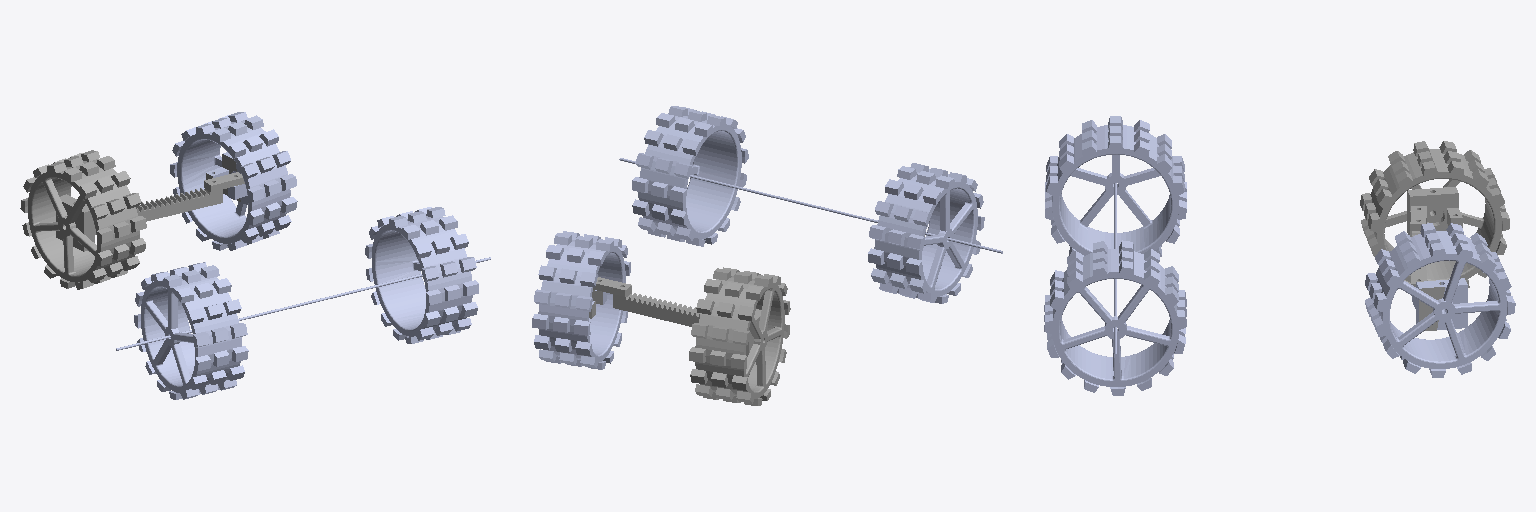
robot.urdf — Vehicle:
<?xml version="1.0" encoding="utf-8"?>
<!-- This URDF was automatically created by SolidWorks to URDF Exporter! Originally created by Stephen Brawner (brawner@gmail.com) 
     Commit Version: 1.6.0-4-g7f85cfe  Build Version: 1.6.7995.38578
     For more information, please see http://wiki.ros.org/sw_urdf_exporter -->
<robot
  name="Vehicle">
  <link
    name="base_link">
    <inertial>
      <origin
        xyz="0.0550010502932839 0.00335 -0.107537951269826"
        rpy="0 0 0" />
      <mass
        value="0.134222467498483" />
      <inertia
        ixx="0.000530200326568241"
        ixy="-1.76282741803255E-21"
        ixz="5.67919391312208E-09"
        iyy="0.000664910161234467"
        iyz="-1.0649504531209E-21"
        izz="0.000135714042427226" />
    </inertial>
    <visual>
      <origin
        xyz="0 0 0"
        rpy="0 0 0" />
      <geometry>
        <mesh
          filename="package://Vehicle/meshes/base_link.STL" />
      </geometry>
      <material
        name="">
        <color
          rgba="0.792156862745098 0.819607843137255 0.933333333333333 1" />
      </material>
    </visual>
    <collision>
      <origin
        xyz="0 0 0"
        rpy="0 0 0" />
      <geometry>
        <mesh
          filename="package://Vehicle/meshes/base_link.STL" />
      </geometry>
    </collision>
  </link>
  <link
    name="Left Steer Link">
    <inertial>
      <origin
        xyz="0.0500809222850922 0.00656724894550813 -0.00535919272784974"
        rpy="0 0 0" />
      <mass
        value="0.00324602578455271" />
      <inertia
        ixx="4.48150642389345E-08"
        ixy="4.84727360608689E-10"
        ixz="1.77018588678701E-08"
        iyy="1.49323356536948E-06"
        iyz="-6.02970654671201E-12"
        izz="1.49849378812535E-06" />
    </inertial>
    <visual>
      <origin
        xyz="0 0 0"
        rpy="0 0 0" />
      <geometry>
        <mesh
          filename="package://Vehicle/meshes/Left Steer Link.STL" />
      </geometry>
      <material
        name="">
        <color
          rgba="0.698039215686274 0.698039215686274 0.698039215686274 1" />
      </material>
    </visual>
    <collision>
      <origin
        xyz="0 0 0"
        rpy="0 0 0" />
      <geometry>
        <mesh
          filename="package://Vehicle/meshes/Left Steer Link.STL" />
      </geometry>
    </collision>
  </link>
  <joint
    name="Left Steer Link"
    type="prismatic">
    <origin
      xyz="0.0013096 0.19439 0.0067"
      rpy="1.5708 0 -0.012439" />
    <parent
      link="base_link" />
    <child
      link="Left Steer Link" />
    <axis
      xyz="0 1 0" />
    <limit
      lower="0"
      upper="0"
      effort="0"
      velocity="0" />
  </joint>
  <link
    name="Left Wheel Hub Steer Link">
    <inertial>
      <origin
        xyz="-0.00779963377175908 -0.00403158824266521 -0.0131195801197776"
        rpy="0 0 0" />
      <mass
        value="0.0050366617475554" />
      <inertia
        ixx="7.34761078247964E-07"
        ixy="-1.72051817338608E-10"
        ixz="-4.97521640714242E-08"
        iyy="6.45569810746413E-07"
        iyz="3.09626826661675E-11"
        izz="4.97776139373279E-07" />
    </inertial>
    <visual>
      <origin
        xyz="0 0 0"
        rpy="0 0 0" />
      <geometry>
        <mesh
          filename="package://Vehicle/meshes/Left Wheel Hub Steer Link.STL" />
      </geometry>
      <material
        name="">
        <color
          rgba="0.698039215686274 0.698039215686274 0.698039215686274 1" />
      </material>
    </visual>
    <collision>
      <origin
        xyz="0 0 0"
        rpy="0 0 0" />
      <geometry>
        <mesh
          filename="package://Vehicle/meshes/Left Wheel Hub Steer Link.STL" />
      </geometry>
    </collision>
  </link>
  <joint
    name="Wheel Hub Steer Link"
    type="fixed">
    <origin
      xyz="0 0.01 0"
      rpy="0 0 0" />
    <parent
      link="Left Steer Link" />
    <child
      link="Left Wheel Hub Steer Link" />
    <axis
      xyz="0 0 0" />
  </joint>
  <link
    name="Left Wheel Hub and Wheel">
    <inertial>
      <origin
        xyz="-6.61541654789488E-11 -9.66353775600642E-07 0.00623278746417051"
        rpy="0 0 0" />
      <mass
        value="0.0677074647787253" />
      <inertia
        ixx="5.43157170674138E-05"
        ixy="-6.1311791460183E-14"
        ixz="-3.01711628093336E-14"
        iyy="5.44686876512768E-05"
        iyz="-1.74833499516118E-10"
        izz="9.26633769711813E-05" />
    </inertial>
    <visual>
      <origin
        xyz="0 0 0"
        rpy="0 0 0" />
      <geometry>
        <mesh
          filename="package://Vehicle/meshes/Left Wheel Hub and Wheel.STL" />
      </geometry>
      <material
        name="">
        <color
          rgba="0.698039215686274 0.698039215686274 0.698039215686274 1" />
      </material>
    </visual>
    <collision>
      <origin
        xyz="0 0 0"
        rpy="0 0 0" />
      <geometry>
        <mesh
          filename="package://Vehicle/meshes/Left Wheel Hub and Wheel.STL" />
      </geometry>
    </collision>
  </link>
  <joint
    name="Wheel Hub and Wheel"
    type="fixed">
    <origin
      xyz="-0.012826 -0.005 -0.013734"
      rpy="3.1416 1.3929 3.1416" />
    <parent
      link="Left Wheel Hub Steer Link" />
    <child
      link="Left Wheel Hub and Wheel" />
    <axis
      xyz="0 0 0" />
  </joint>
  <link
    name="Right Steer Link">
    <inertial>
      <origin
        xyz="-0.0223911240224031 -0.00437408682341831 -0.00550388030856544"
        rpy="0 0 0" />
      <mass
        value="0.00324602578455271" />
      <inertia
        ixx="4.50263273013228E-08"
        ixy="4.84691378468033E-10"
        ixz="-2.47770580583833E-08"
        iyy="1.49323356536949E-06"
        iyz="8.44032715543382E-12"
        izz="1.49828252506296E-06" />
    </inertial>
    <visual>
      <origin
        xyz="0 0 0"
        rpy="0 0 0" />
      <geometry>
        <mesh
          filename="package://Vehicle/meshes/Right Steer Link.STL" />
      </geometry>
      <material
        name="">
        <color
          rgba="0.698039215686274 0.698039215686274 0.698039215686274 1" />
      </material>
    </visual>
    <collision>
      <origin
        xyz="0 0 0"
        rpy="0 0 0" />
      <geometry>
        <mesh
          filename="package://Vehicle/meshes/Right Steer Link.STL" />
      </geometry>
    </collision>
  </link>
  <joint
    name="Right Steer Link"
    type="fixed">
    <origin
      xyz="0.089208 0.19402 0.017576"
      rpy="1.5708 0 0.017412" />
    <parent
      link="base_link" />
    <child
      link="Right Steer Link" />
    <axis
      xyz="0 0 0" />
  </joint>
  <link
    name="Right Wheel Hub Steer Link">
    <inertial>
      <origin
        xyz="0.0319624530700555 -0.0049498024285375 -0.0173300631970307"
        rpy="0 0 0" />
      <mass
        value="0.0050366617475554" />
      <inertia
        ixx="7.35579409094345E-07"
        ixy="1.72306275732386E-10"
        ixz="-4.74913849682736E-08"
        iyy="6.45569810746412E-07"
        iyz="-2.95137749303822E-11"
        izz="4.96957808526895E-07" />
    </inertial>
    <visual>
      <origin
        xyz="0 0 0"
        rpy="0 0 0" />
      <geometry>
        <mesh
          filename="package://Vehicle/meshes/Right Wheel Hub Steer Link.STL" />
      </geometry>
      <material
        name="">
        <color
          rgba="0.698039215686274 0.698039215686274 0.698039215686274 1" />
      </material>
    </visual>
    <collision>
      <origin
        xyz="0 0 0"
        rpy="0 0 0" />
      <geometry>
        <mesh
          filename="package://Vehicle/meshes/Right Wheel Hub Steer Link.STL" />
      </geometry>
    </collision>
  </link>
  <joint
    name="Wheel Hub Steer Link"
    type="fixed">
    <origin
      xyz="0 0 0"
      rpy="0 0 0" />
    <parent
      link="Right Steer Link" />
    <child
      link="Right Wheel Hub Steer Link" />
    <axis
      xyz="0 0 0" />
  </joint>
  <link
    name="Right Wheel Hub and Wheel">
    <inertial>
      <origin
        xyz="-9.66302848577627E-07 5.72762898221058E-09 -0.0198868265223648"
        rpy="0 0 0" />
      <mass
        value="0.0677074647786905" />
      <inertia
        ixx="5.44686822730286E-05"
        ixy="-9.02672641962002E-10"
        ixz="-1.74786892644534E-10"
        iyy="5.43157224041067E-05"
        iyz="1.03130632695845E-12"
        izz="9.26633769299387E-05" />
    </inertial>
    <visual>
      <origin
        xyz="0 0 0"
        rpy="0 0 0" />
      <geometry>
        <mesh
          filename="package://Vehicle/meshes/Right Wheel Hub and Wheel.STL" />
      </geometry>
      <material
        name="">
        <color
          rgba="0.792156862745098 0.819607843137255 0.933333333333333 1" />
      </material>
    </visual>
    <collision>
      <origin
        xyz="0 0 0"
        rpy="0 0 0" />
      <geometry>
        <mesh
          filename="package://Vehicle/meshes/Right Wheel Hub and Wheel.STL" />
      </geometry>
    </collision>
  </link>
  <joint
    name="Wheel Hub and Wheel"
    type="continuous">
    <origin
      xyz="0.010794 -0.0058763 -0.014875"
      rpy="-1.4014 0.0058168 1.5718" />
    <parent
      link="Right Wheel Hub Steer Link" />
    <child
      link="Right Wheel Hub and Wheel" />
    <axis
      xyz="0 0 1" />
  </joint>
  <link
    name="Left Rear Wheel">
    <inertial>
      <origin
        xyz="2.59506877792193E-11 -1.79577099718164E-11 -0.0256469304168855"
        rpy="0 0 0" />
      <mass
        value="0.0703483794651665" />
      <inertia
        ixx="0.000107210569445497"
        ixy="-1.47189315753732E-17"
        ixz="2.78834562993712E-14"
        iyy="0.000107210569471016"
        iyz="-1.11056955844979E-14"
        izz="9.19292783481113E-05" />
    </inertial>
    <visual>
      <origin
        xyz="0 0 0"
        rpy="0 0 0" />
      <geometry>
        <mesh
          filename="package://Vehicle/meshes/Left Rear Wheel.STL" />
      </geometry>
      <material
        name="">
        <color
          rgba="0.792156862745098 0.819607843137255 0.933333333333333 1" />
      </material>
    </visual>
    <collision>
      <origin
        xyz="0 0 0"
        rpy="0 0 0" />
      <geometry>
        <mesh
          filename="package://Vehicle/meshes/Left Rear Wheel.STL" />
      </geometry>
    </collision>
  </link>
  <joint
    name="Left Rear Wheel"
    type="continuous">
    <origin
      xyz="0 0.0085 0.0147"
      rpy="1.5708 0 1.5708" />
    <parent
      link="base_link" />
    <child
      link="Left Rear Wheel" />
    <axis
      xyz="0 0 1" />
  </joint>
  <link
    name="Right Rear Wheel">
    <inertial>
      <origin
        xyz="8.31124405409334E-12 2.1762304631967E-11 -0.142429823378982"
        rpy="0 0 0" />
      <mass
        value="0.0703483794651603" />
      <inertia
        ixx="0.000107210569450214"
        ixy="1.04550360881771E-14"
        ixz="3.04797373758211E-15"
        iyy="0.00010721056946958"
        iyz="2.17904001792476E-14"
        izz="9.19292783513957E-05" />
    </inertial>
    <visual>
      <origin
        xyz="0 0 0"
        rpy="0 0 0" />
      <geometry>
        <mesh
          filename="package://Vehicle/meshes/Right Rear Wheel.STL" />
      </geometry>
      <material
        name="">
        <color
          rgba="0.792156862745098 0.819607843137255 0.933333333333333 1" />
      </material>
    </visual>
    <collision>
      <origin
        xyz="0 0 0"
        rpy="0 0 0" />
      <geometry>
        <mesh
          filename="package://Vehicle/meshes/Right Rear Wheel.STL" />
      </geometry>
    </collision>
  </link>
  <joint
    name="Right Rear Wheel"
    type="continuous">
    <origin
      xyz="0 0.0085 0.0147"
      rpy="-1.5708 -1.2946 1.5708" />
    <parent
      link="base_link" />
    <child
      link="Right Rear Wheel" />
    <axis
      xyz="0 0 1" />
  </joint>
</robot>

--- What the picture shows (computed from the rendered views, not written in the file) ---
The picture shows the robot from 3 angles, left to right: view 1: azimuth 30°, elevation 25°; view 2: azimuth 150°, elevation 25°; view 3: azimuth 270°, elevation 25°; orthographic projection.
Robot: Vehicle — 9 links, 8 joints (3 continuous, 1 prismatic, 4 fixed); root link base_link; default pose: every joint at zero.
Visible links, largest first — view 1: Right Rear Wheel, Left Wheel Hub and Wheel, Left Rear Wheel, Right Wheel Hub and Wheel, Right Steer Link, Left Wheel Hub Steer Link; view 2: Left Rear Wheel, Right Rear Wheel, Left Wheel Hub and Wheel, Right Wheel Hub and Wheel, Left Steer Link; view 3: Right Wheel Hub and Wheel, Right Rear Wheel, Left Rear Wheel, Left Wheel Hub and Wheel, Left Wheel Hub Steer Link.
Boxes of the visible links, x1,y1,x2,y2 form: Right Rear Wheel: [127, 207, 490, 348]; Left Wheel Hub and Wheel: [20, 150, 146, 289]; Left Rear Wheel: [116, 261, 479, 399]; Right Wheel Hub and Wheel: [170, 112, 297, 250]; Right Steer Link: [137, 172, 244, 221]; Left Wheel Hub Steer Link: [60, 194, 95, 251]; Left Rear Wheel: [619, 159, 1002, 303]; Right Rear Wheel: [620, 106, 1002, 253]; Left Wheel Hub and Wheel: [689, 267, 790, 405]; Right Wheel Hub and Wheel: [532, 231, 630, 369]; Left Steer Link: [613, 292, 700, 326]; Right Wheel Hub and Wheel: [1365, 223, 1515, 377]; Right Rear Wheel: [1044, 216, 1186, 395]; Left Rear Wheel: [1045, 116, 1186, 355]; Left Wheel Hub and Wheel: [1360, 141, 1509, 287]; Left Wheel Hub Steer Link: [1409, 187, 1462, 234].
Bounding box of the posed robot: 0.3 × 0.2965 × 0.0925 m (x, y, z).
8 mesh visuals loaded from 9 distinct referenced files (8 binary STL); not drawn: 1 (reference not matched to a file when rendering).
